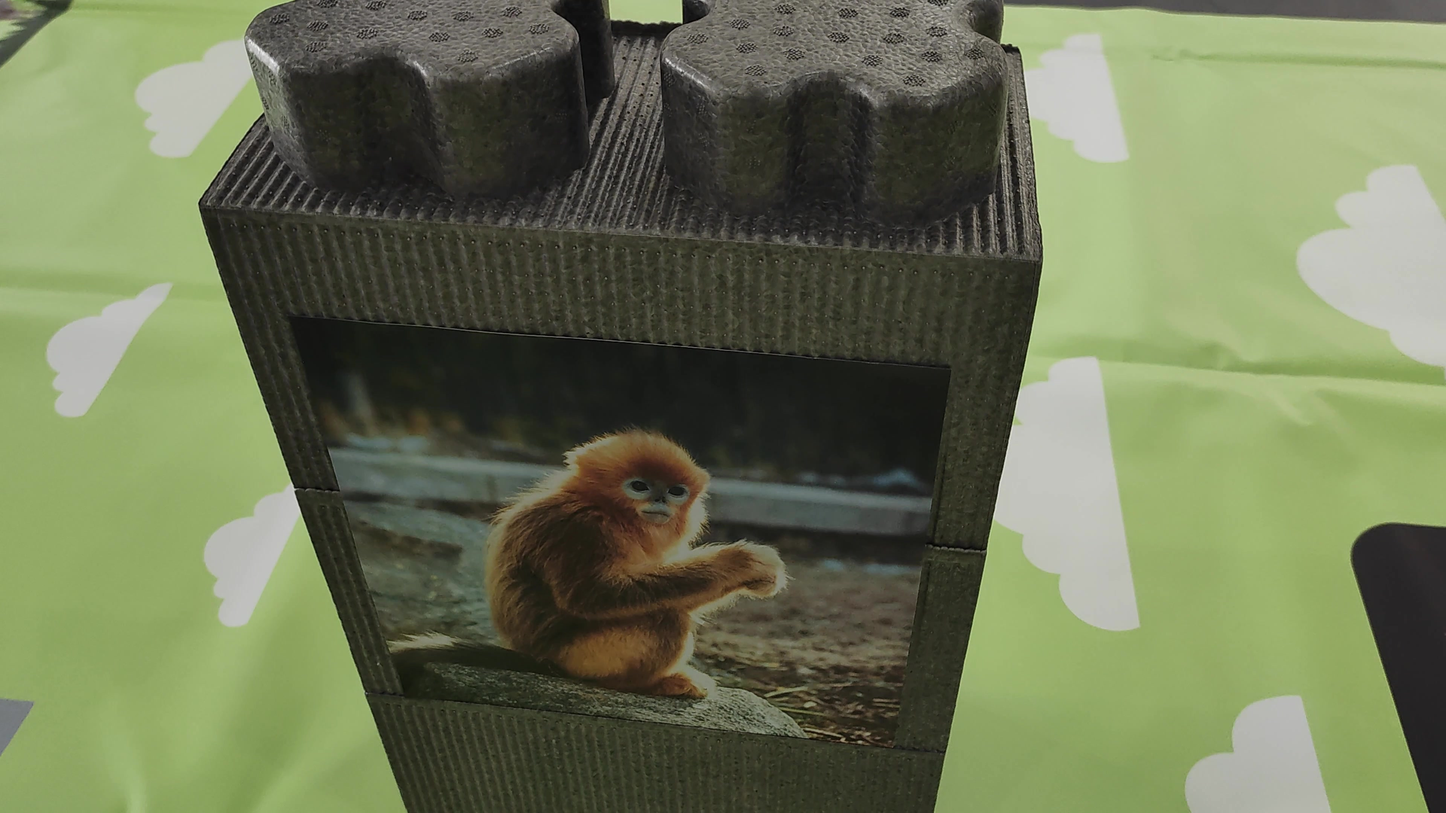monkey: (376, 390, 811, 709)
